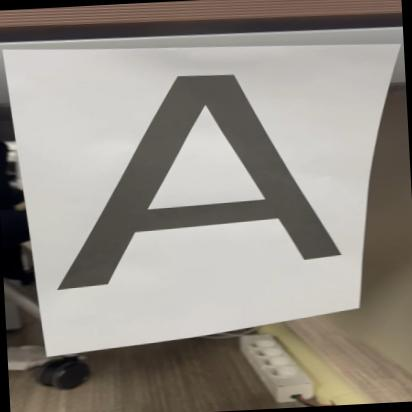seat: (39, 60, 360, 290)
